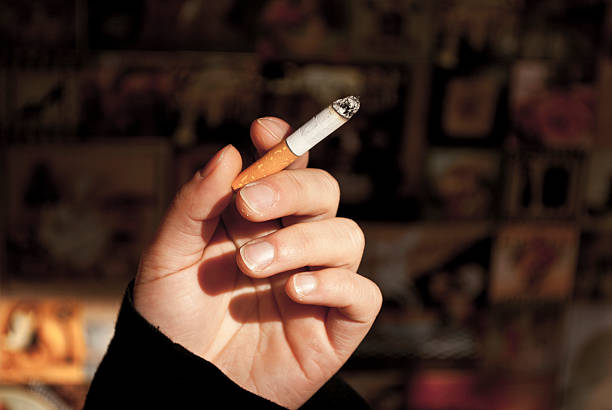cigarette: (229, 92, 361, 187)
